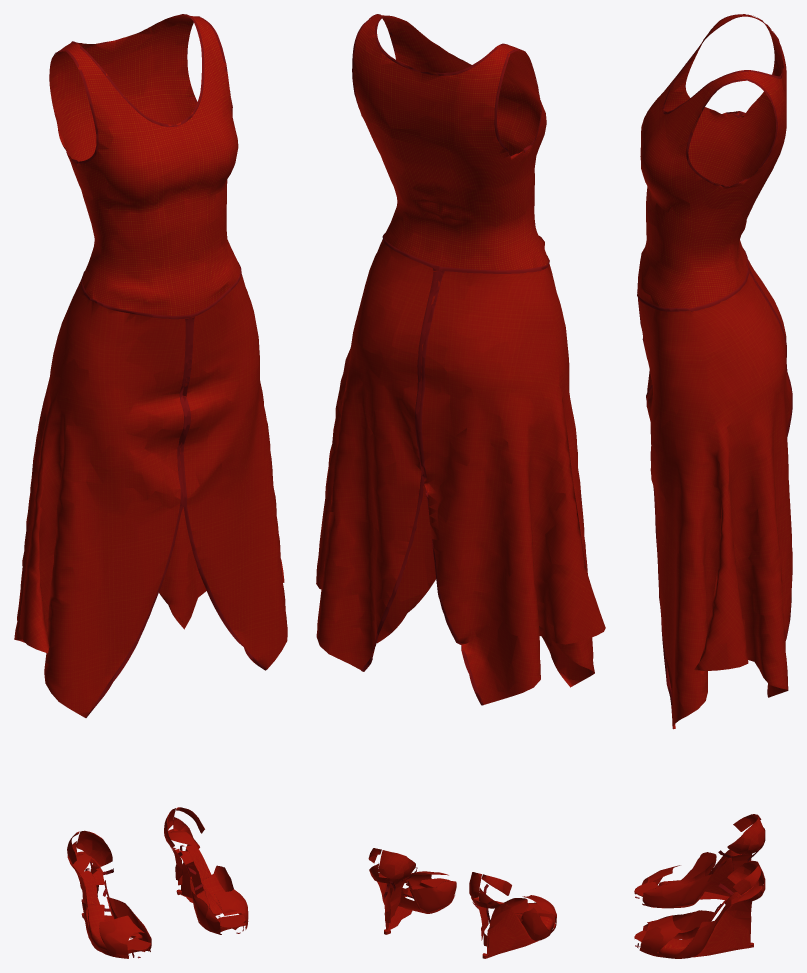
The model's file is dresss.fbx.
3 renders of one model, left to right at view 1: azimuth 30°, elevation 25°; view 2: azimuth 150°, elevation 25°; view 3: azimuth 270°, elevation 25°, orthographic. The views are drawn at different scales.
Visible parts, largest first — view 1: Mesh; view 2: Mesh; view 3: Mesh.
Boxes of the visible parts, <box> form: Mesh: <box>14,14,287,958</box>; Mesh: <box>316,14,605,958</box>; Mesh: <box>634,14,792,958</box>.
Size of the model in its own units: 0.6665 by 2.14 by 0.3497.
